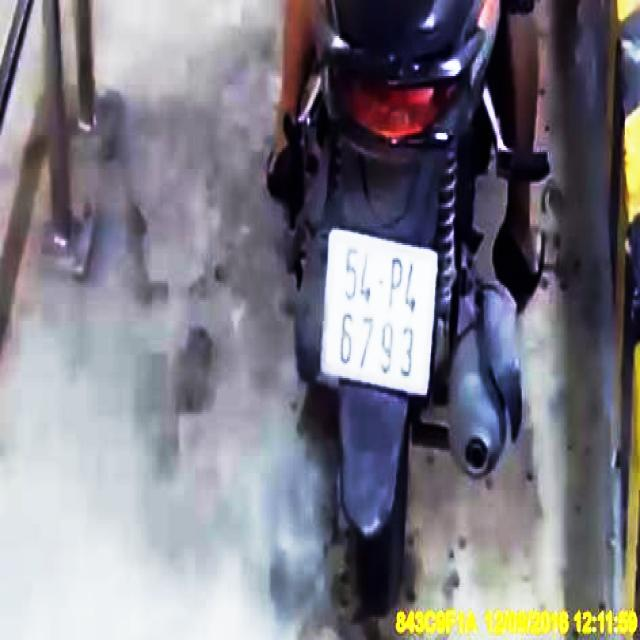license_plate: (322, 232, 443, 402)
